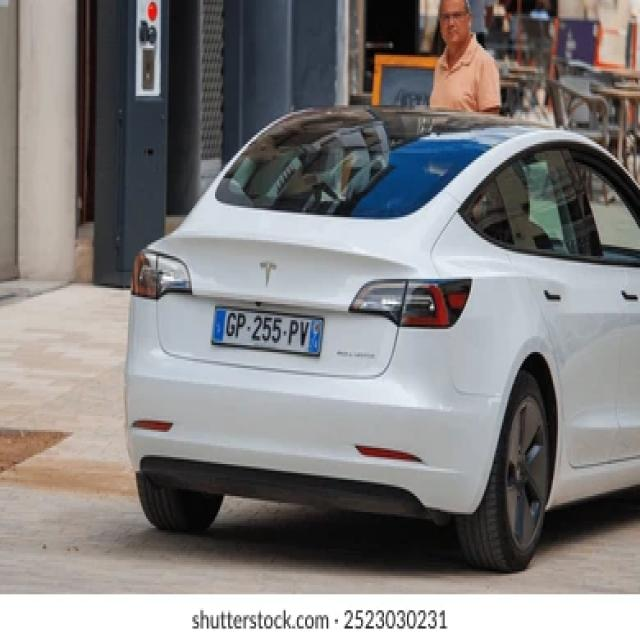license: (208, 289, 324, 369)
